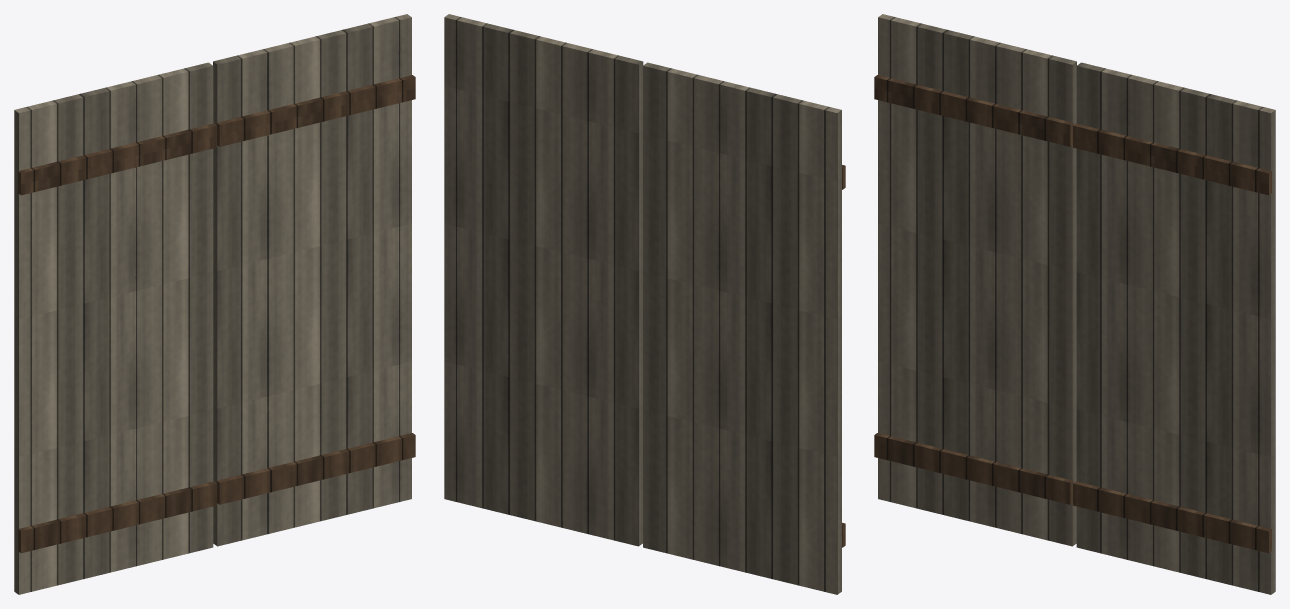
File: Door_Barn_1_LOD2.gltf
The picture shows the model from 3 angles, left to right: view 1: azimuth 30°, elevation 25°; view 2: azimuth 150°, elevation 25°; view 3: azimuth 330°, elevation 25°; orthographic projection.
Visible parts, largest first — view 1: Door_Barn_1_LOD2; view 2: Door_Barn_1_LOD2; view 3: Door_Barn_1_LOD2.
Part boxes in pixels (x1,y1,x2,y2): Door_Barn_1_LOD2: (14,14,415,594); Door_Barn_1_LOD2: (444,14,845,594); Door_Barn_1_LOD2: (874,14,1275,594).
Size of the model in its own units: 3 by 3.5 by 0.1.
2 materials, 2 textured.
